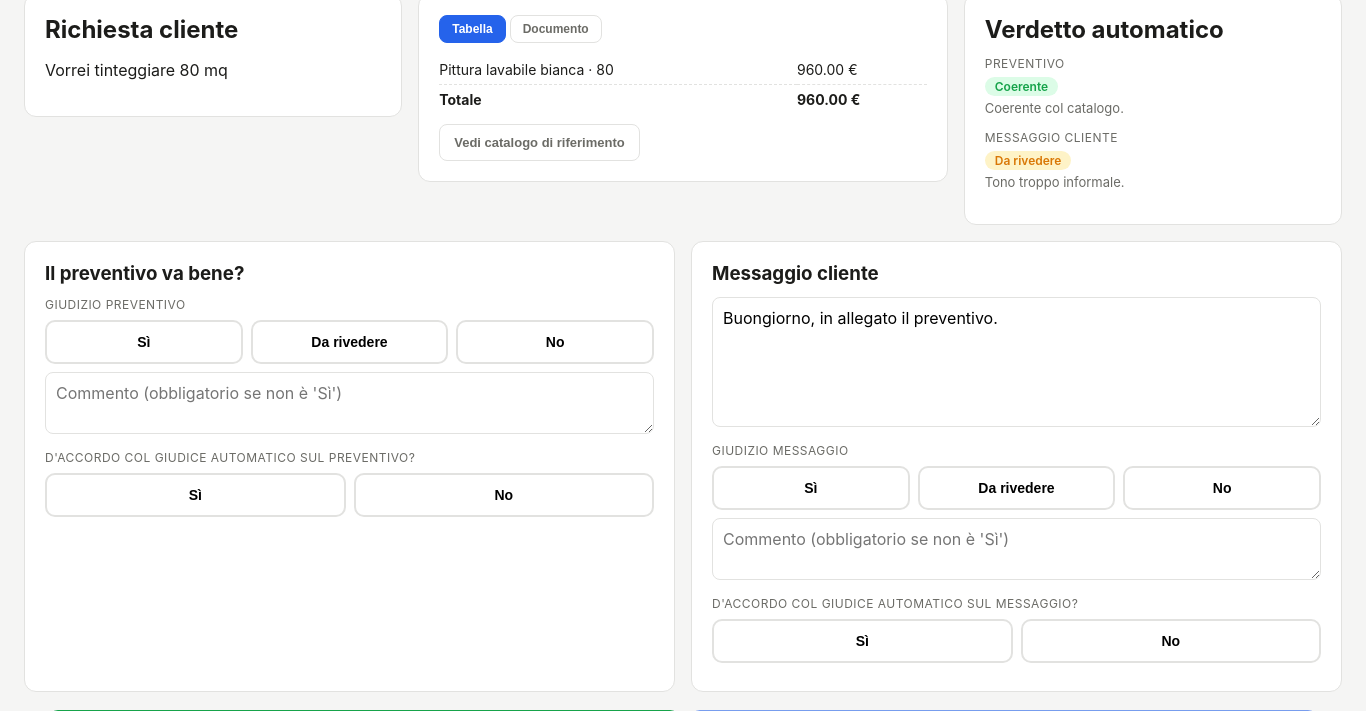
Test: area di lavoro del giudice umano › il commento è obbligatorio quando l'esito non è 'sì'
Step 1. Click the 1st button "Sì" → [144, 342], box [45,320,243,364]
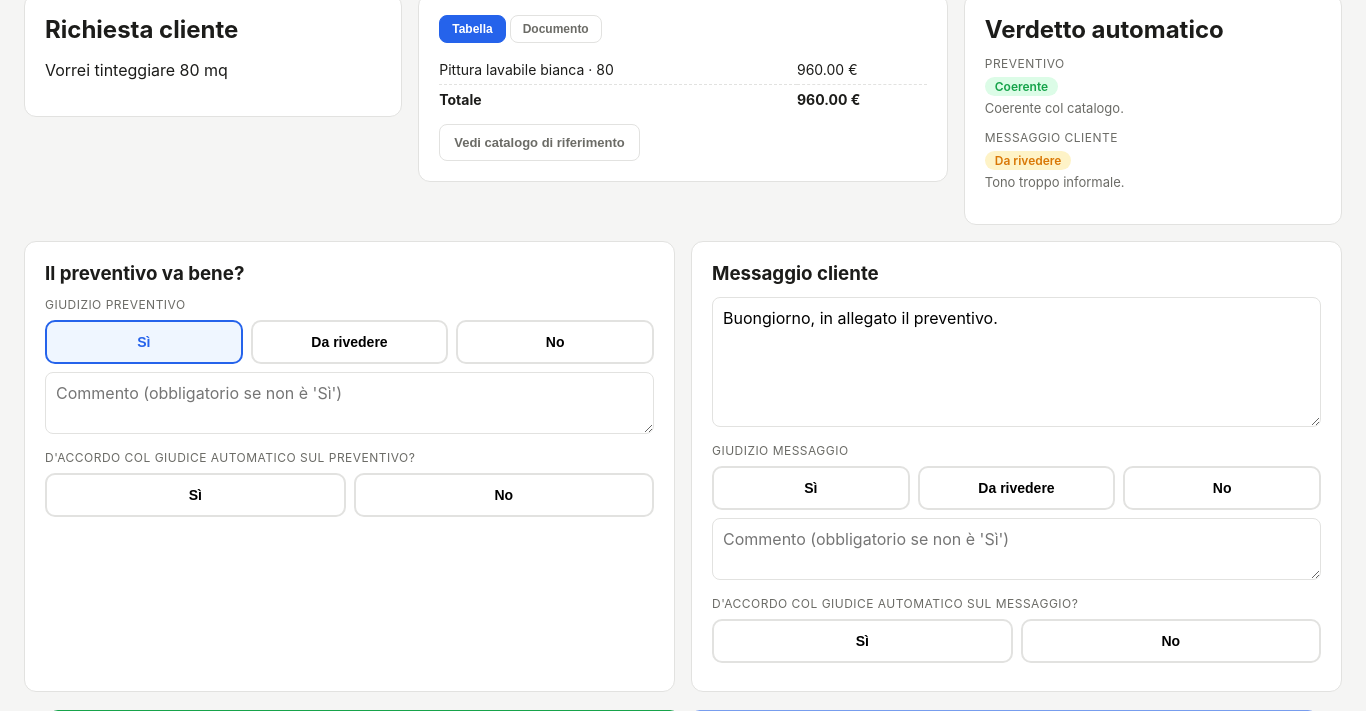
Step 2. Click the 2nd button "Sì" → [195, 495], box [45,473,346,517]
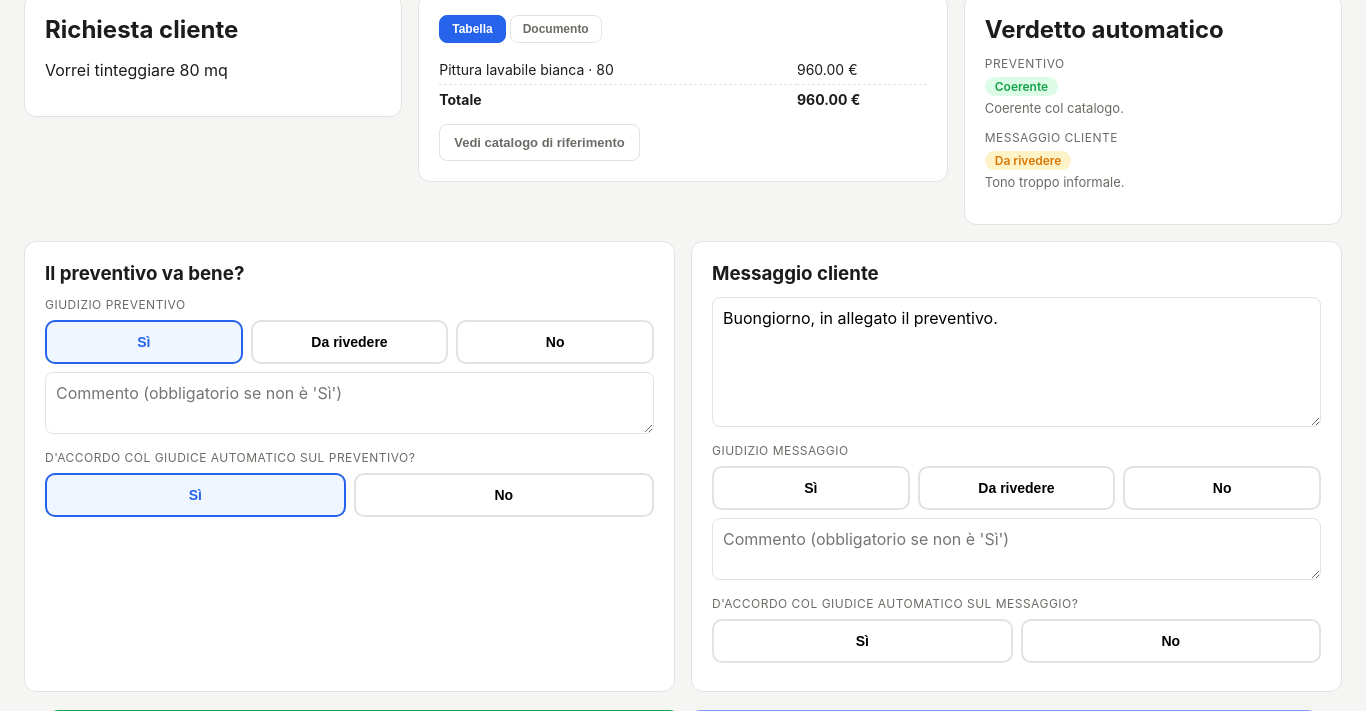
Step 3. Click the 3rd button "Sì" → [811, 488], box [712,466,910,510]
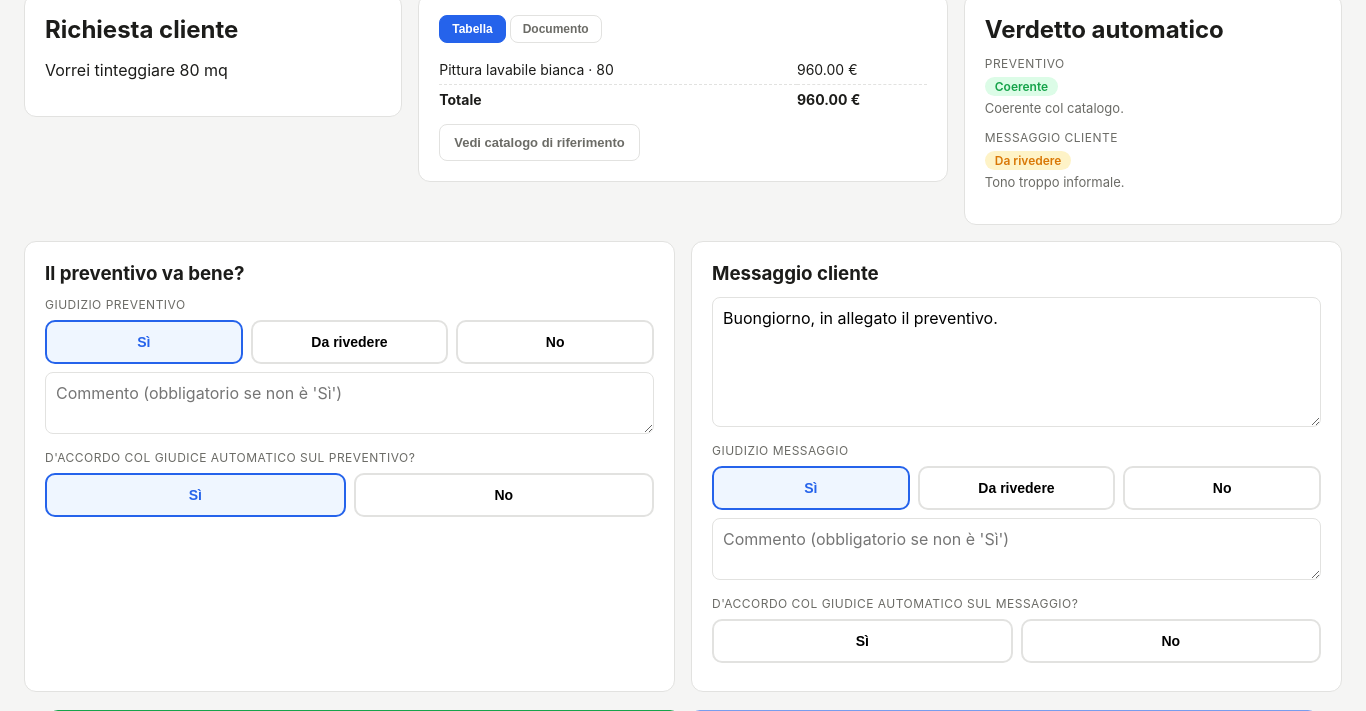
Step 4. Click the 4th button "Sì" → [862, 641], box [712,619,1012,663]
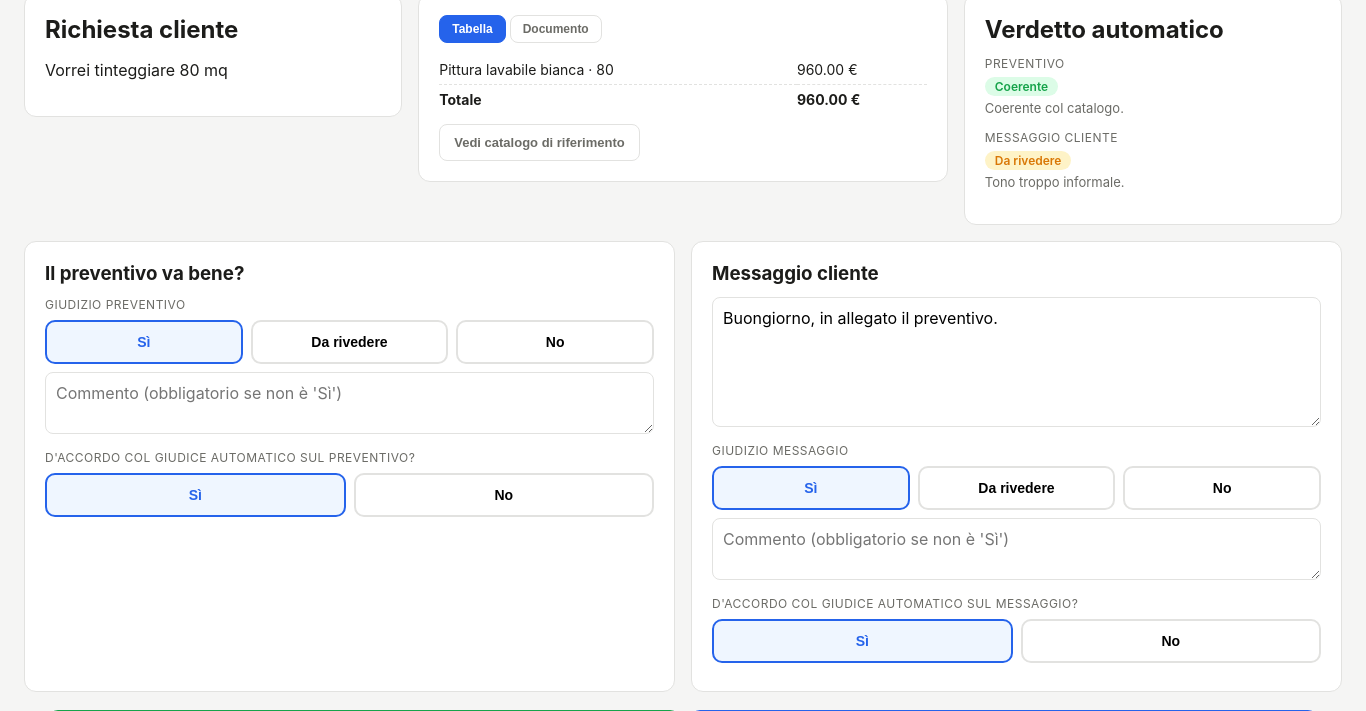
Step 5. Click the 1st button "No" → [555, 342], box [456,320,654,364]
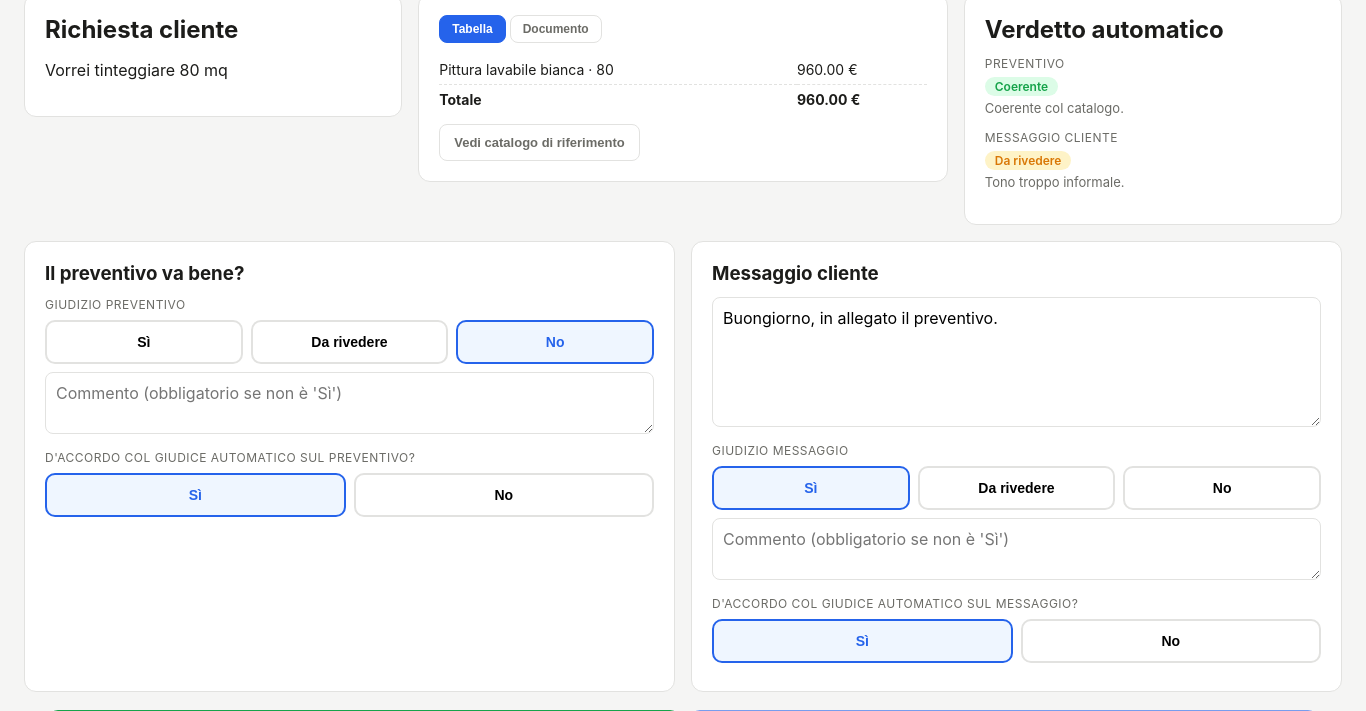
Step 6. Type "Manca una voce di catalogo" into the text box with placeholder "Commento (obbligatorio se non è 'Sì')" below "Giudizio preventivo" → [350, 403], box [45,372,654,434]
(page scrolled)
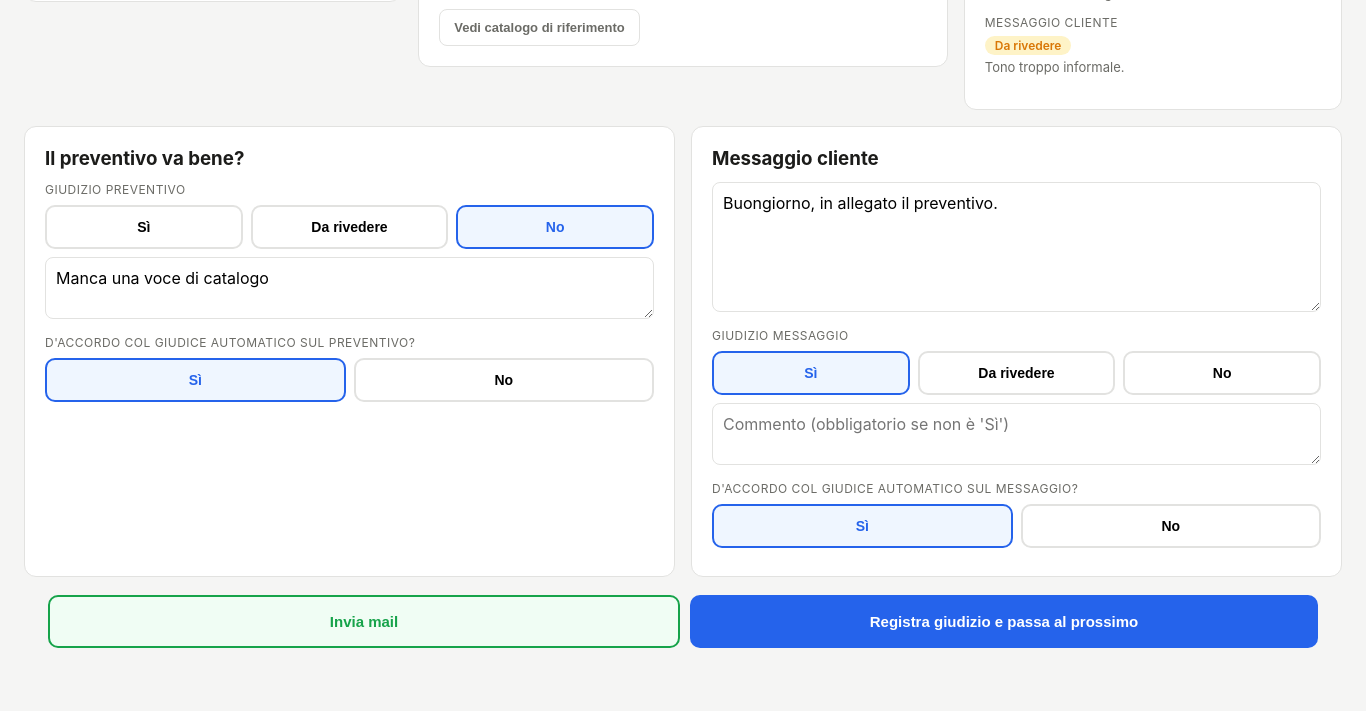
Result: the button "Registra giudizio e passa al prossimo" is enabled at [690,595,1318,648]
